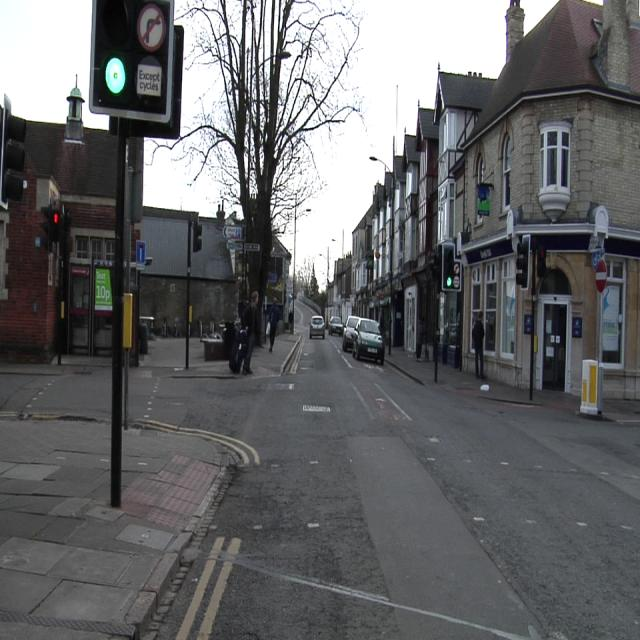Building: (329, 0, 639, 398), (1, 101, 114, 360), (141, 207, 189, 335), (191, 218, 235, 333)
Car: (353, 318, 383, 363), (309, 316, 324, 338), (330, 316, 343, 335)
Road: (137, 336, 639, 638)
Tree: (172, 1, 364, 298)
person: (241, 292, 256, 374), (473, 314, 484, 376), (268, 300, 279, 351)
